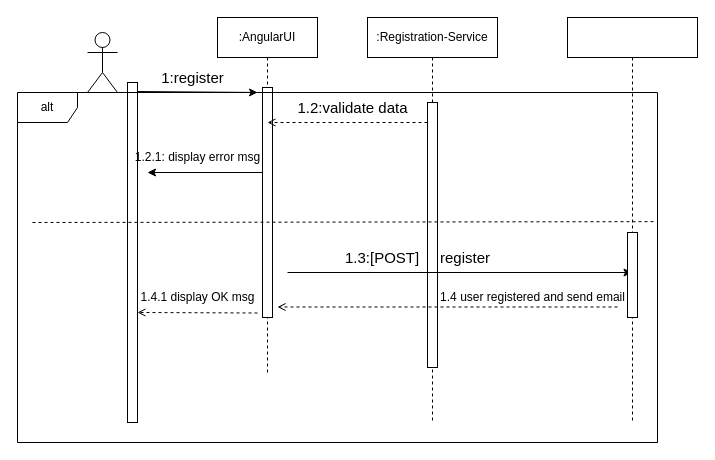
This 715x460 diagram has some shape labels left out. The centre of each missing label's shape, as x and y in pixels:
":Keycloak" goes at point (632, 219).
"Actor" goes at point (102, 62).
